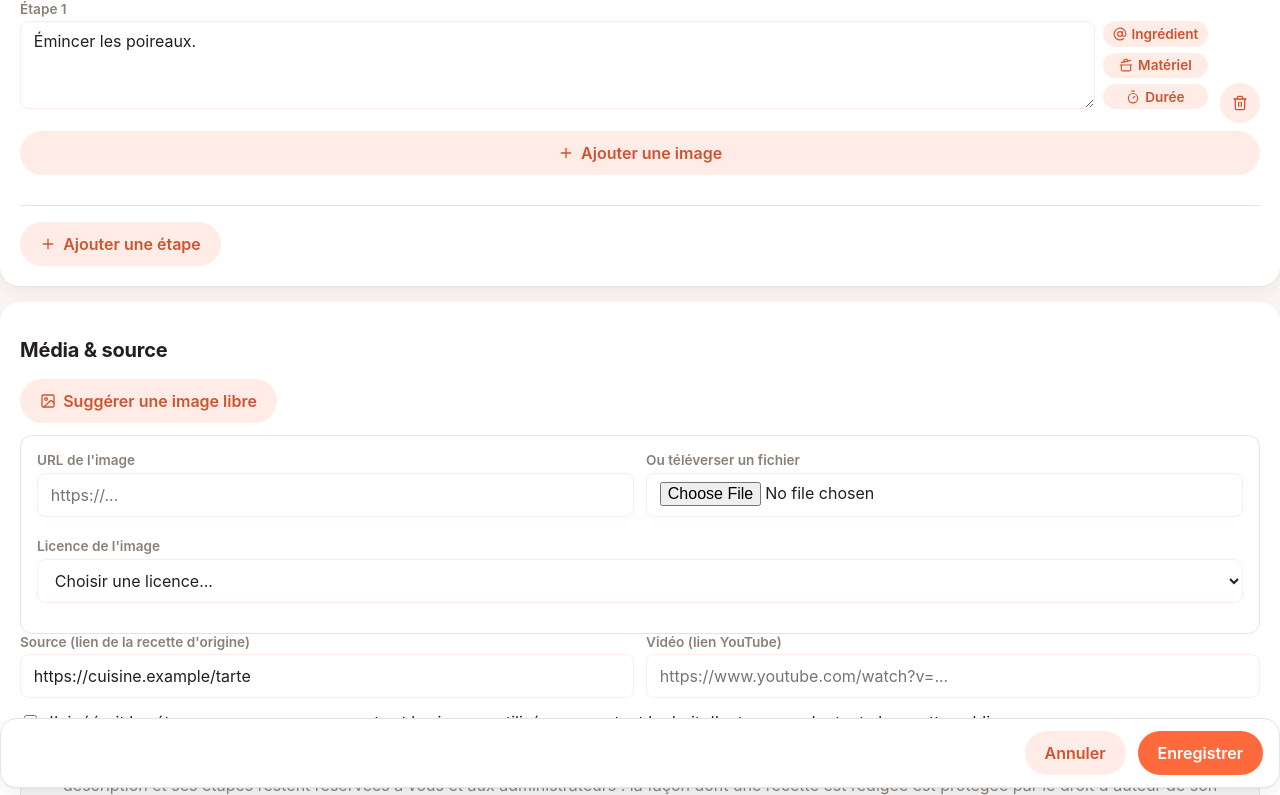
Scenario: RecipeFormView - imported recipe copyright › fills the image and its credit from a free image suggestion
(page scrolled)
Click the button with class "free-images-button": (148, 401) top-left (20, 379), bottom-right (277, 423)
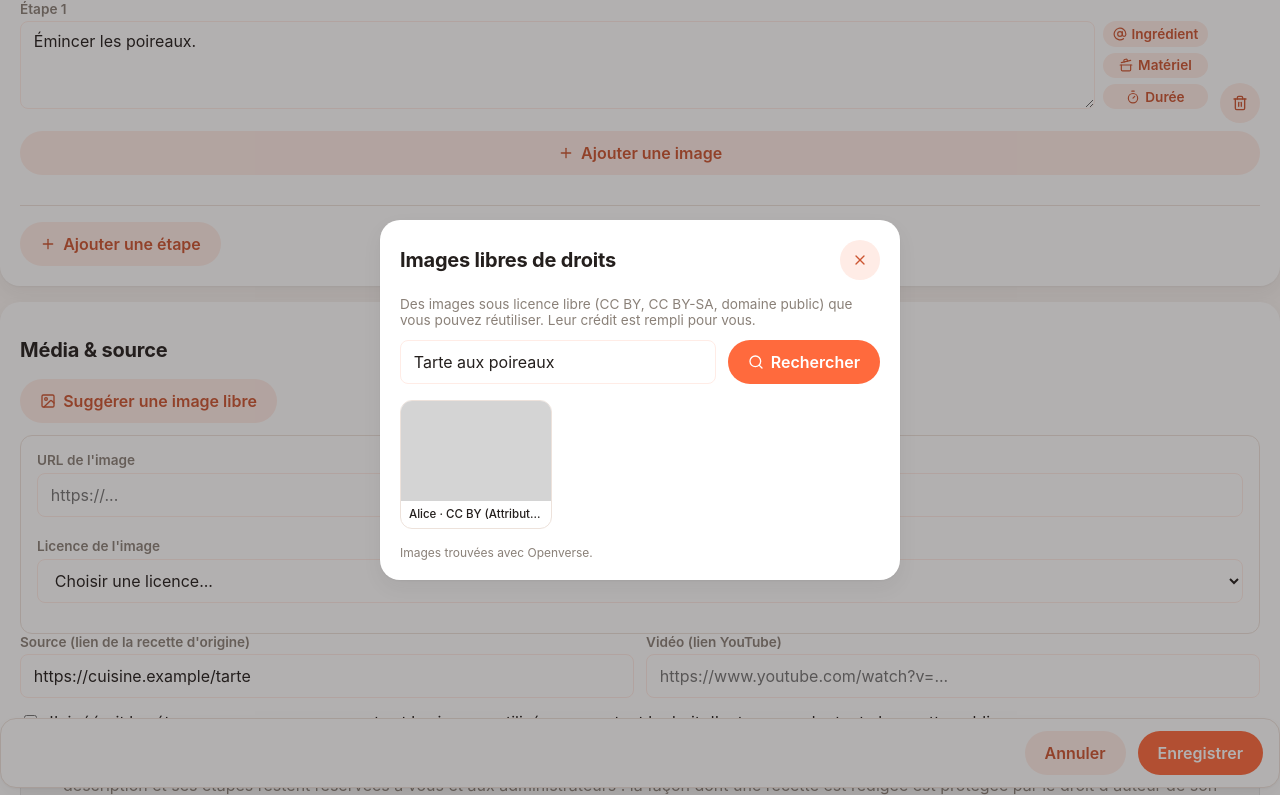
Click the button with class "free-image": (476, 464) top-left (400, 400), bottom-right (552, 529)
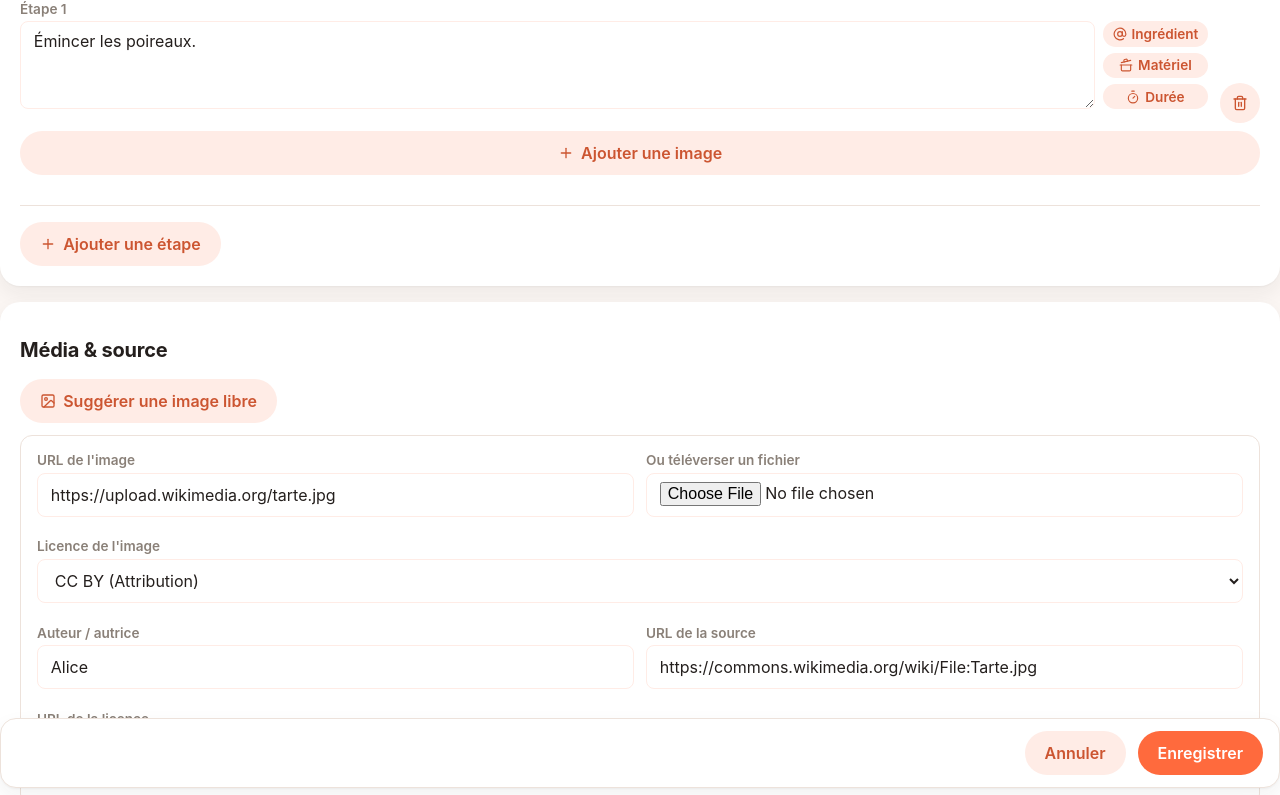
Now the field labelled "URL de l'image" holds "https://upload.wikimedia.org/tarte.jpg", box top-left (37, 473), bottom-right (634, 517)
Now the dropdown labelled "Licence de l'image" shows "CC BY (Attribution)", box top-left (37, 559), bottom-right (1243, 603)
